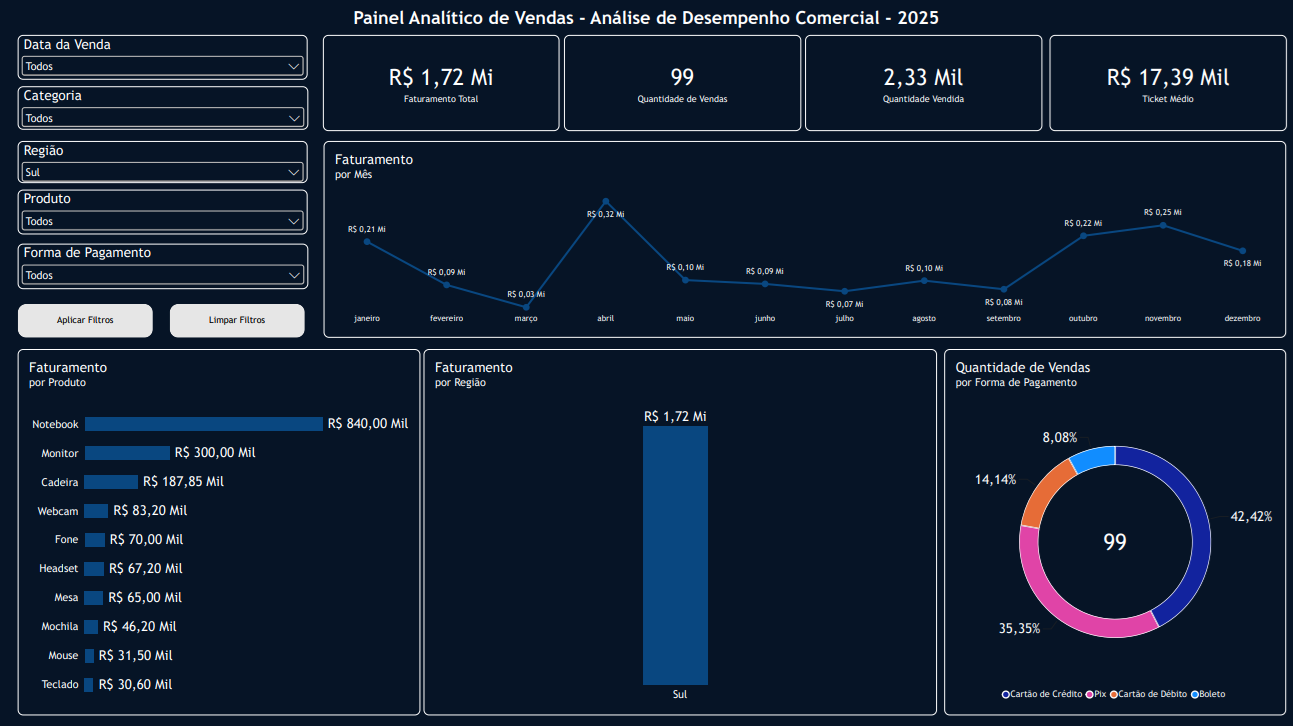

The page's visual inventory and layout, read from the dashboard file:
{"tool":"powerbi","page":{"name":"Página 1","canvas":[1920,1080],"ordinal":0},"visuals":[{"type":"card","fields":{"Values":["Medidas.Faturamento_total"]},"box":[481,55.7,350,142.5],"z":0},{"type":"card","fields":{"Values":["Medidas.Quantidade de Vendas"]},"box":[838.2,55.7,351,142.5],"z":1000},{"type":"card","fields":{"Values":["Medidas.Quantidade Vendida"]},"box":[1195.4,55.7,351,142.5],"z":2000},{"type":"card","fields":{"Values":["Medidas.Ticket Médio"]},"box":[1556.6,55.7,351,142.5],"z":3000},{"type":"lineChart","title":"Faturamento","fields":{"Category":["vendas_limpa.Mes_Ano.Variation.Hierarquia de datas.Mês"],"Y":["Medidas.Faturamento Total"]},"box":[481.6,212.6,1425.9,291.9],"z":4000},{"type":"clusteredBarChart","title":"Faturamento","fields":{"Category":["vendas_limpa.Produto"],"Y":["Medidas.Faturamento Total"]},"box":[29.2,521.2,596.2,542],"z":5000},{"type":"clusteredColumnChart","title":"Faturamento","fields":{"Category":["vendas_limpa.Regiao"],"Y":["Medidas.Faturamento Total"]},"box":[629.6,521.2,760.9,542],"z":6000},{"type":"slicer","fields":{"Values":["vendas_limpa.Data_Venda"]},"box":[28.9,55.7,429.4,66.1],"z":7000},{"type":"slicer","fields":{"Values":["vendas_limpa.Categoria"]},"box":[29.5,131.6,430,64.8],"z":8000},{"type":"slicer","fields":{"Values":["vendas_limpa.Regiao"]},"box":[28.9,212.6,429.4,61.9],"z":9000},{"type":"slicer","fields":{"Values":["vendas_limpa.Produto"]},"box":[28.9,284.9,429.4,66.1],"z":10000},{"type":"donutChart","title":"Quantidade de Vendas","fields":{"Category":["vendas_limpa.Forma_Pagamento"],"Y":["Medidas.Quantidade de Vendas"]},"box":[1400.9,521.2,506.6,542],"z":11000},{"type":"textbox","box":[487.7,13.7,944.5,82.5],"z":12000},{"type":"slicer","fields":{"Values":["vendas_limpa.Forma_Pagamento"]},"box":[29.5,365.2,430,66.8],"z":13000},{"type":"actionButton","box":[28.9,454.2,200,50],"z":14000},{"type":"actionButton","box":[253.9,454.2,200.3,49.5],"z":15000}]}

Visuals, with their boxes in screenshot pixels (x1, y1, x2, y2), scaled from the page's 1920x1080 canvas onto the 1316x726 screenshot:
card - Medidas.Faturamento_total: {"left": 330, "top": 37, "right": 570, "bottom": 133}
card - Medidas.Quantidade de Vendas: {"left": 575, "top": 37, "right": 815, "bottom": 133}
card - Medidas.Quantidade Vendida: {"left": 819, "top": 37, "right": 1060, "bottom": 133}
card - Medidas.Ticket Médio: {"left": 1067, "top": 37, "right": 1308, "bottom": 133}
"Faturamento" lineChart: {"left": 330, "top": 143, "right": 1307, "bottom": 339}
"Faturamento" clusteredBarChart: {"left": 20, "top": 350, "right": 429, "bottom": 715}
"Faturamento" clusteredColumnChart: {"left": 432, "top": 350, "right": 953, "bottom": 715}
slicer - vendas_limpa.Data_Venda: {"left": 20, "top": 37, "right": 314, "bottom": 82}
slicer - vendas_limpa.Categoria: {"left": 20, "top": 88, "right": 315, "bottom": 132}
slicer - vendas_limpa.Regiao: {"left": 20, "top": 143, "right": 314, "bottom": 185}
slicer - vendas_limpa.Produto: {"left": 20, "top": 192, "right": 314, "bottom": 236}
"Quantidade de Vendas" donutChart: {"left": 960, "top": 350, "right": 1307, "bottom": 715}
textbox: {"left": 334, "top": 9, "right": 982, "bottom": 65}
slicer - vendas_limpa.Forma_Pagamento: {"left": 20, "top": 245, "right": 315, "bottom": 290}
actionButton: {"left": 20, "top": 305, "right": 157, "bottom": 339}
actionButton: {"left": 174, "top": 305, "right": 311, "bottom": 339}
